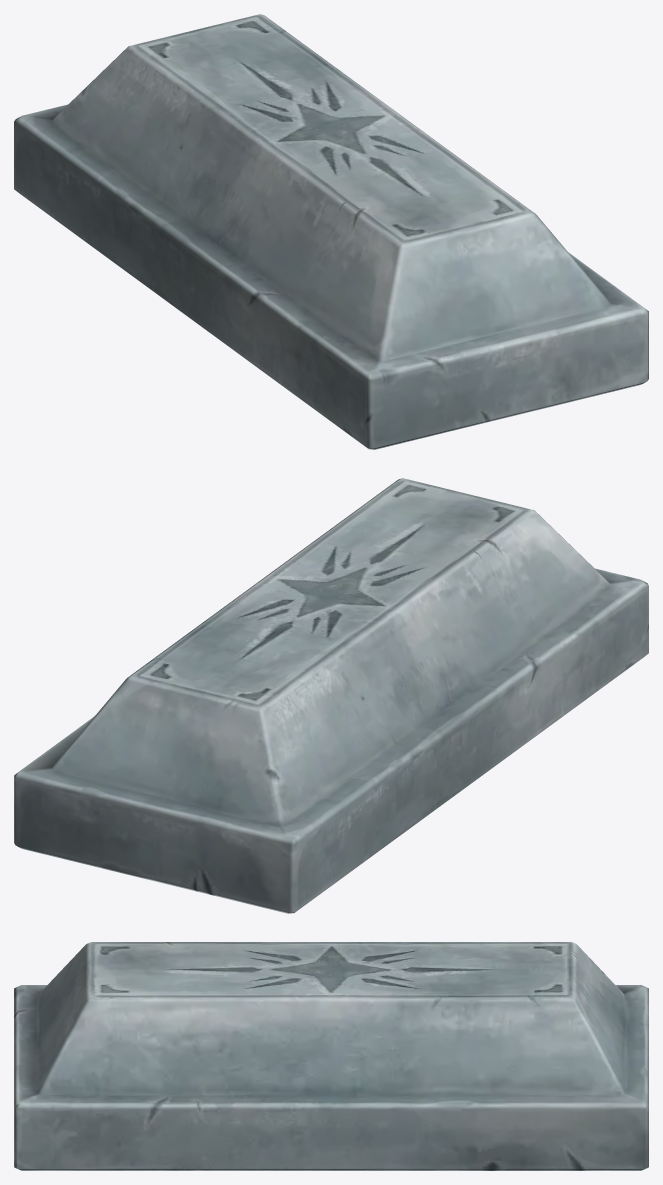
3 views of the same model, one above another, from view 1: azimuth 30°, elevation 25°; view 2: azimuth 150°, elevation 25°; view 3: azimuth 270°, elevation 25° (orthographic). The views are drawn at different scales.
Visible parts, largest first — view 1: SM_Ingot_Silver_01_LOD0; view 2: SM_Ingot_Silver_01_LOD0; view 3: SM_Ingot_Silver_01_LOD0.
Boxes of the visible parts, x1,y1,x2,y2 form: SM_Ingot_Silver_01_LOD0: (14,14,648,449); SM_Ingot_Silver_01_LOD0: (14,478,648,913); SM_Ingot_Silver_01_LOD0: (14,942,648,1170).
Bounding box in the file's own units: 0.2445 × 0.1322 × 0.5369.
Materials: 1 (1 with a texture image).
